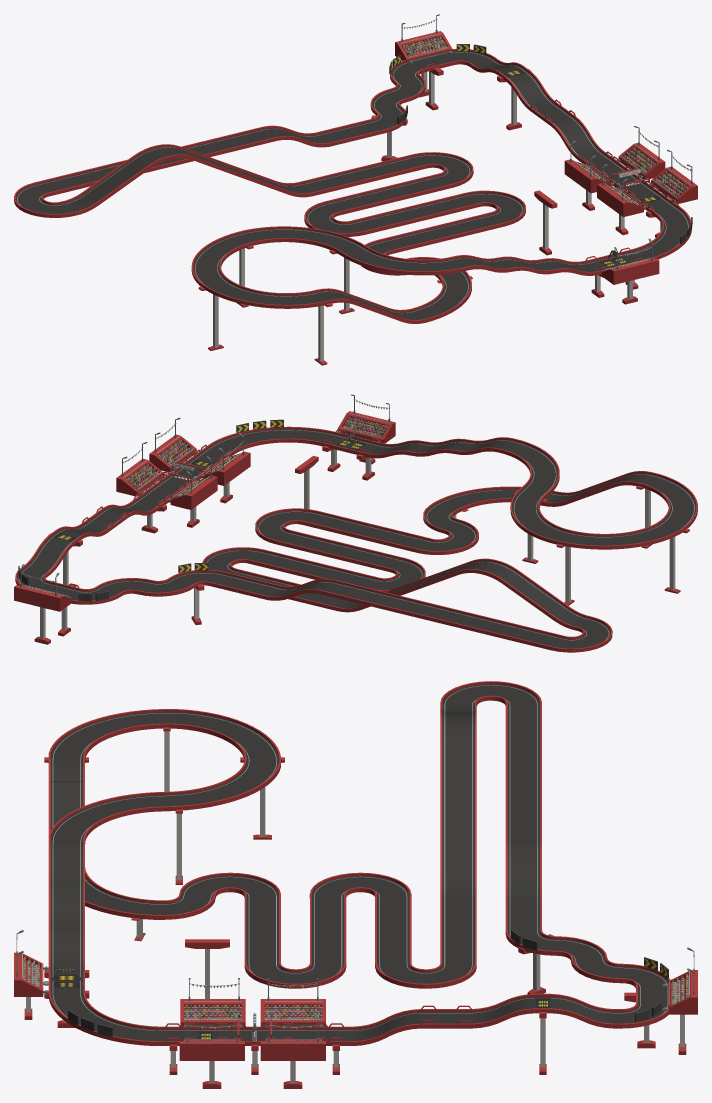
The model's file is GameObject.fbx.
3 views of the same model, one above another, from view 1: azimuth 30°, elevation 25°; view 2: azimuth 150°, elevation 25°; view 3: azimuth 270°, elevation 25° (orthographic). The views are drawn at different scales.
Parts seen in each view (by area): view 1: SR_Env_Raised_Track_Straight_Red_6__8_, SR_Env_Raised_Track_Straight_Red_6__2_, SR_Env_Raised_Track_Straight_Red_6__3_, SR_Env_Raised_Track_Straight_Red_6__5_, SR_Env_Raised_Track_Straight_Red_6__4_, SR_Env_Raised_Track_Corner_Wide_Red_1, SR_Env_Raised_Track_Corner_Wide_Red_2__2_, SR_Env_Raised_Track_Corner_Wide_Red_2, SR_Env_Raised_Track_Corner_Wide_Red_2__1_, SR_Env_Raised_Track_Corner_Wide_Red_2__3_, SR_Env_Raised_Track_Corner_Wide_Red, SR_Env_Raised_Track_Straight_Red_6__7_ (+22 smaller); view 2: SR_Env_Raised_Track_Straight_Red_6__8_, SR_Env_Raised_Track_Straight_Red_6__3_, SR_Env_Raised_Track_Straight_Red_6__2_, SR_Env_Raised_Track_Corner_Wide_Red_2__1_, SR_Env_Raised_Track_Corner_Wide_Red, SR_Env_Raised_Track_Straight_Red_6__4_, SR_Env_Raised_Track_Corner_Wide_Red_1, SR_Env_Raised_Track_Corner_Wide_Red_2, SR_Env_Raised_Track_Corner_Wide_Red_2__2_, SR_Env_Raised_Track_Corner_Wide_Red_2__3_, SR_Env_Raised_Track_Straight_Red_6__7_, SR_Env_Raised_Track_Straight_Red_6__9_ (+26 smaller); view 3: SR_Env_Raised_Track_Straight_Red_6__8_, SR_Env_Raised_Track_Straight_Red_6__6_, SR_Env_Raised_Track_Corner_Wide_Red_2__2_, SR_Env_Raised_Track_Corner_Wide_Red_2__1_, SR_Env_Raised_Track_Corner_Wide_Red_2, SR_Env_Raised_Track_Corner_Wide_Red_1, SR_Env_Raised_Track_Straight_Red_6__3_, SR_Env_Raised_Track_Straight_Red_6__4_, SR_Env_Raised_Track_Straight_Red_6__2_, SR_Env_Raised_Track_Straight_Red_6__5_, SR_Env_Raised_Track_Corner_Wide_Red, SR_Env_Raised_Track_Corner_Wide_Red_2__3_ (+41 smaller).
Part boxes in pixels (left/top/right/bottom): SR_Env_Raised_Track_Straight_Red_6__8_: left=34, top=127, right=277, bottom=196; SR_Env_Raised_Track_Straight_Red_6__2_: left=377, top=212, right=505, bottom=253; SR_Env_Raised_Track_Straight_Red_6__3_: left=351, top=193, right=479, bottom=234; SR_Env_Raised_Track_Straight_Red_6__5_: left=298, top=154, right=426, bottom=195; SR_Env_Raised_Track_Straight_Red_6__4_: left=324, top=173, right=452, bottom=215; SR_Env_Raised_Track_Corner_Wide_Red_1: left=341, top=246, right=468, bottom=275; SR_Env_Raised_Track_Corner_Wide_Red_2__2_: left=204, top=279, right=332, bottom=308; SR_Env_Raised_Track_Corner_Wide_Red_2: left=239, top=226, right=366, bottom=255; SR_Env_Raised_Track_Corner_Wide_Red_2__1_: left=191, top=231, right=253, bottom=287; SR_Env_Raised_Track_Corner_Wide_Red_2__3_: left=411, top=271, right=471, bottom=322; SR_Env_Raised_Track_Corner_Wide_Red: left=631, top=206, right=691, bottom=259; SR_Env_Raised_Track_Straight_Red_6__7_: left=82, top=155, right=149, bottom=205; SR_Env_Raised_Track_Straight_Red_6__8_: left=320, top=580, right=564, bottom=650; SR_Env_Raised_Track_Straight_Red_6__3_: left=275, top=530, right=404, bottom=572; SR_Env_Raised_Track_Straight_Red_6__2_: left=302, top=510, right=431, bottom=552; SR_Env_Raised_Track_Corner_Wide_Red_2__1_: left=557, top=520, right=685, bottom=549; SR_Env_Raised_Track_Corner_Wide_Red: left=207, top=426, right=335, bottom=455; SR_Env_Raised_Track_Straight_Red_6__4_: left=249, top=549, right=378, bottom=587; SR_Env_Raised_Track_Corner_Wide_Red_1: left=498, top=438, right=559, bottom=495; SR_Env_Raised_Track_Corner_Wide_Red_2: left=510, top=486, right=571, bottom=544; SR_Env_Raised_Track_Corner_Wide_Red_2__2_: left=636, top=472, right=697, bottom=528; SR_Env_Raised_Track_Corner_Wide_Red_2__3_: left=429, top=486, right=557, bottom=515; SR_Env_Raised_Track_Straight_Red_6__7_: left=502, top=570, right=570, bottom=620; SR_Env_Raised_Track_Straight_Red_6__9_: left=210, top=572, right=281, bottom=599; SR_Env_Raised_Track_Straight_Red_6__8_: left=505, top=702, right=541, bottom=842; SR_Env_Raised_Track_Straight_Red_6__6_: left=440, top=741, right=476, bottom=875; SR_Env_Raised_Track_Corner_Wide_Red_2__2_: left=48, top=709, right=164, bottom=761; SR_Env_Raised_Track_Corner_Wide_Red_2__1_: left=165, top=709, right=280, bottom=760; SR_Env_Raised_Track_Corner_Wide_Red_2: left=165, top=758, right=281, bottom=811; SR_Env_Raised_Track_Corner_Wide_Red_1: left=48, top=792, right=164, bottom=843; SR_Env_Raised_Track_Straight_Red_6__3_: left=310, top=894, right=346, bottom=965; SR_Env_Raised_Track_Straight_Red_6__4_: left=375, top=894, right=411, bottom=965; SR_Env_Raised_Track_Straight_Red_6__2_: left=244, top=894, right=280, bottom=965; SR_Env_Raised_Track_Straight_Red_6__5_: left=440, top=894, right=476, bottom=965; SR_Env_Raised_Track_Corner_Wide_Red: left=48, top=993, right=164, bottom=1045; SR_Env_Raised_Track_Corner_Wide_Red_2__3_: left=85, top=867, right=164, bottom=919.
Bounding box in the file's own units: 48478 × 8023 × 41853.
